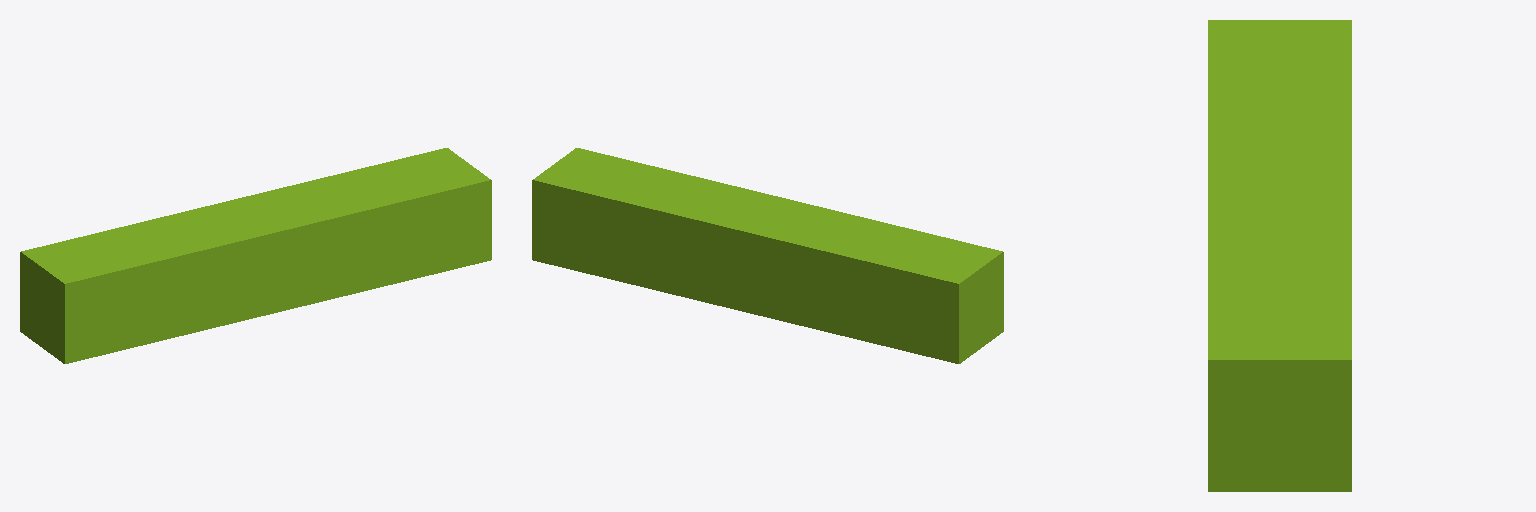
URDF robot description (block_2):
<?xml version="1.0"?>
<robot name="block_2">
  <link name="block_2_base_link">
    <contact>
      <lateral_friction value="1.0"/>
      <spinning_friction value=".001"/>
    </contact>
    <inertial>
      <origin rpy="0 0 0" xyz="0 0 0"/>
      <mass value="0.02"/>
      <inertia ixx="1" ixy="0" ixz="0" iyy="1" iyz="0" izz="1"/>
    </inertial>
    <visual>
      <origin rpy="0 0 0" xyz="0.0 0.0 0.0"/>
      <geometry>
        <box size="0.10 0.018 0.018"/>
      </geometry>
      <material name="blockmat">
        <color rgba=".5450 .7412 .1843 1"/>
      </material>
    </visual>
    <collision>
      <origin rpy="0 0 0" xyz="0.0 0.0 0.0"/>
      <geometry>
        <box size="0.10 0.018 0.018"/>
      </geometry>
    </collision>
  </link>
</robot>

--- Render facts (derived) ---
Views: 3 orthographic renders of the robot side by side, from view 1: azimuth 30°, elevation 25°; view 2: azimuth 150°, elevation 25°; view 3: azimuth 270°, elevation 25°.
Robot: block_2 — 1 links, 0 joints (none); root link block_2_base_link; default pose: all joints at 0.
Links seen in each view (by area): view 1: block_2_base_link; view 2: block_2_base_link; view 3: block_2_base_link.
Link boxes in pixels (box(x1,y1,x2,y2)): block_2_base_link: box(20, 148, 491, 363); block_2_base_link: box(532, 148, 1003, 363); block_2_base_link: box(1208, 20, 1351, 491).
Size in the robot's own frame: 0.1 by 0.018 by 0.018 metres.
Geometry: primitives only (box / cylinder / sphere), no mesh files.